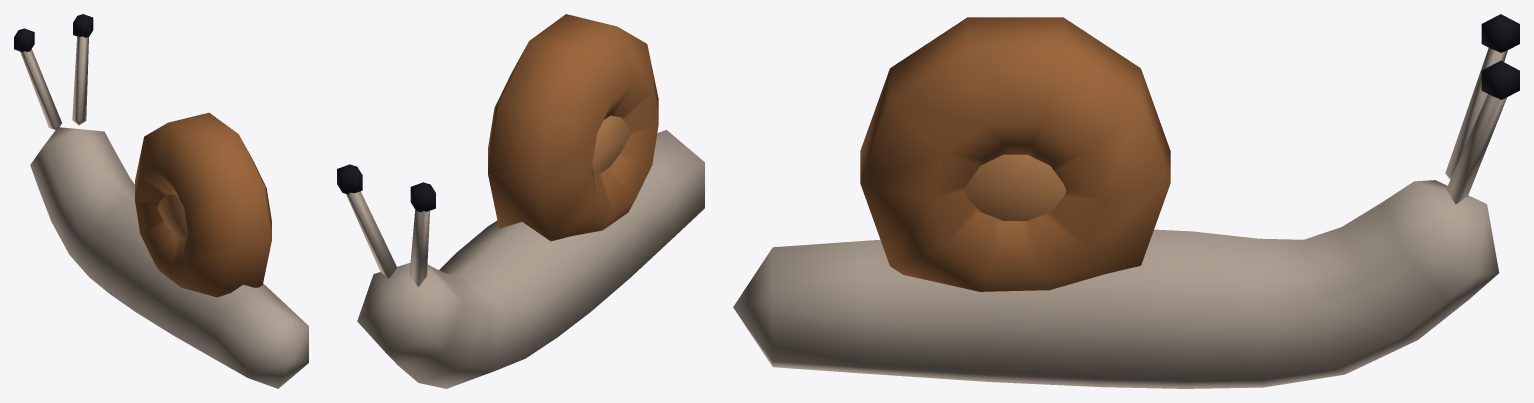
File: snail.glb
3 views of the same model, side by side, from view 1: azimuth 30°, elevation 25°; view 2: azimuth 150°, elevation 25°; view 3: azimuth 270°, elevation 25° (orthographic). The views are drawn at different scales.
Parts seen in each view (by area): view 1: snail; view 2: snail; view 3: snail.
Boxes of the visible parts, <box> form: snail: <box>14,14,308,388</box>; snail: <box>337,14,704,388</box>; snail: <box>733,14,1519,388</box>.
Bounding box in the file's own units: 0.014 × 0.0356 × 0.0713.
